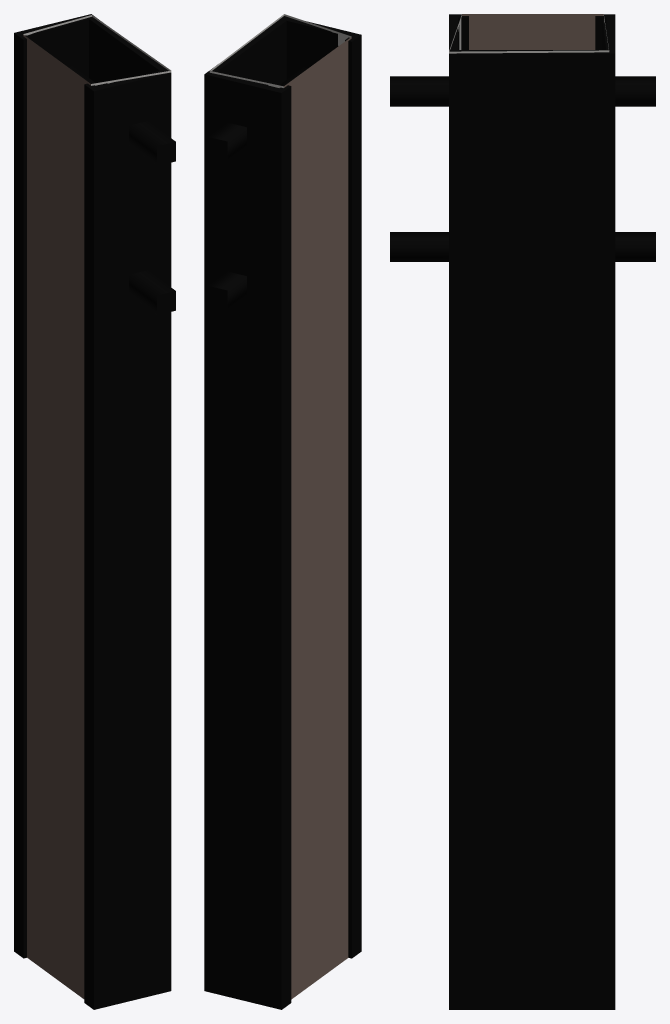
Rendered from guardrailpost.dae.
The picture shows the model from 3 angles, left to right: view 1: azimuth 30°, elevation 25°; view 2: azimuth 150°, elevation 25°; view 3: azimuth 270°, elevation 25°; orthographic projection. The views are drawn at different scales.
Visible parts, largest first — view 1: guardrailpost_a100, guardrailpost_a015, guardrailpost_a050; view 2: guardrailpost_a100, guardrailpost_a015, guardrailpost_a050; view 3: guardrailpost_a100, guardrailpost_a015.
Boxes of the visible parts, x1,y1,x2,y2 form: guardrailpost_a100: (14,14,175,1009); guardrailpost_a015: (23,15,171,998); guardrailpost_a050: (27,14,162,86); guardrailpost_a100: (204,16,361,1009); guardrailpost_a015: (209,14,351,999); guardrailpost_a050: (205,20,338,85); guardrailpost_a100: (390,14,655,1009); guardrailpost_a015: (449,14,609,53).
Size of the model in its own units: 0.0973 by 0.2779 by 1.11.
